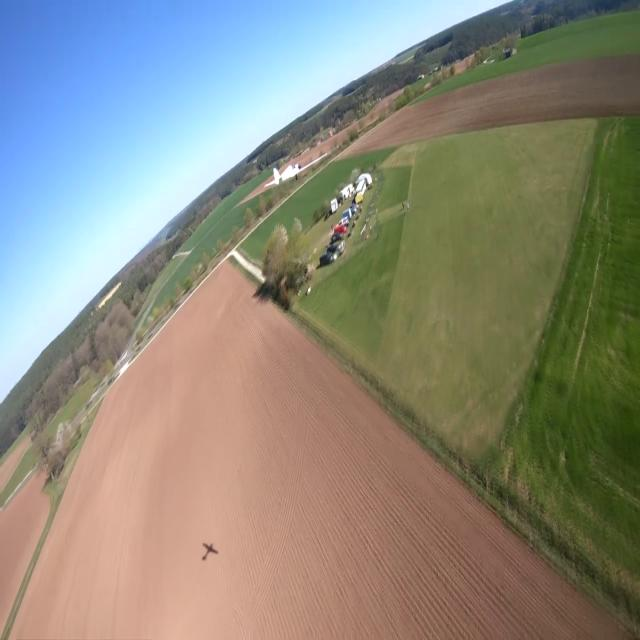iha: (295, 148, 297, 192)
